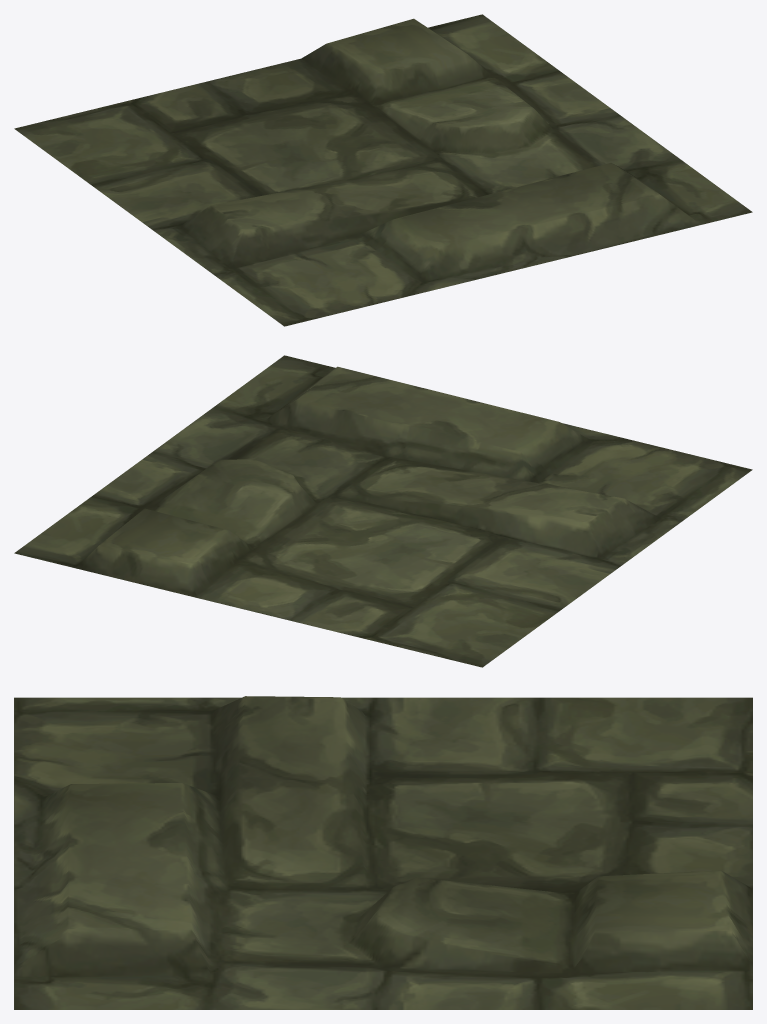
The model's file is floor_03.fbx.
3 renders of one model, top to bottom at view 1: azimuth 30°, elevation 25°; view 2: azimuth 150°, elevation 25°; view 3: azimuth 270°, elevation 25°, orthographic. The views are drawn at different scales.
Parts seen in each view (by area): view 1: floor_03; view 2: floor_03; view 3: floor_03.
Part boxes in pixels (x1=…): floor_03: x1=14, y1=14, x2=752, y2=326; floor_03: x1=14, y1=355, x2=752, y2=667; floor_03: x1=14, y1=696, x2=752, y2=1009.
Bounding box in the file's own units: 200 × 9.15 × 200.
